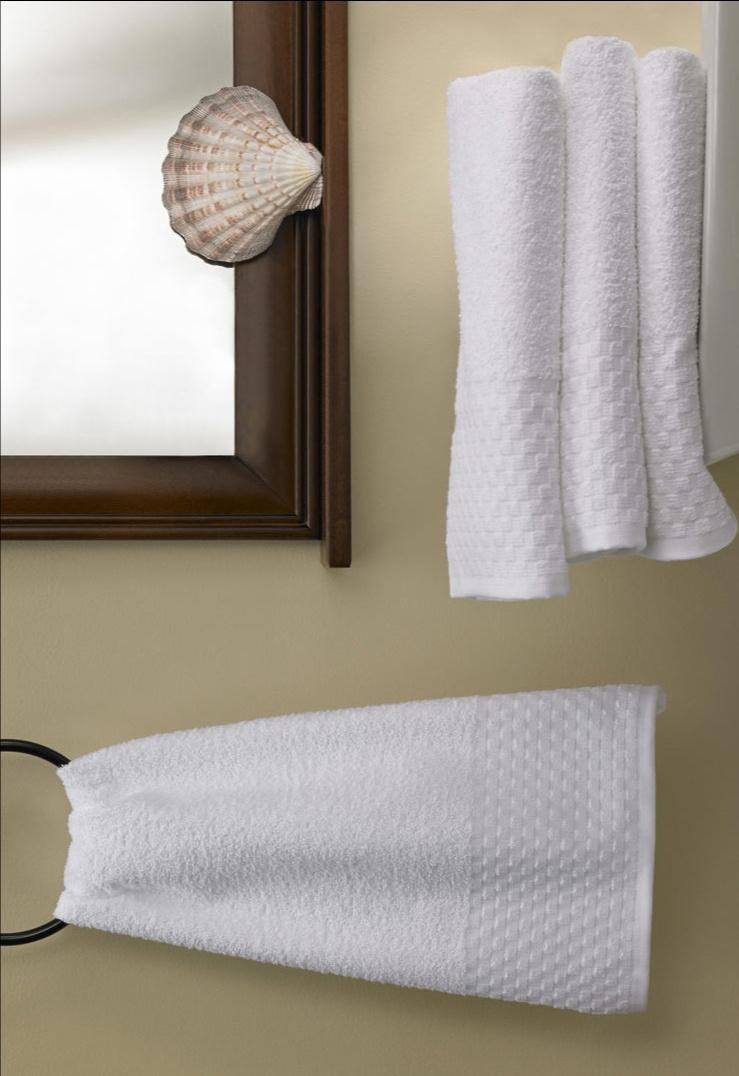towel: (25, 670, 708, 1042)
